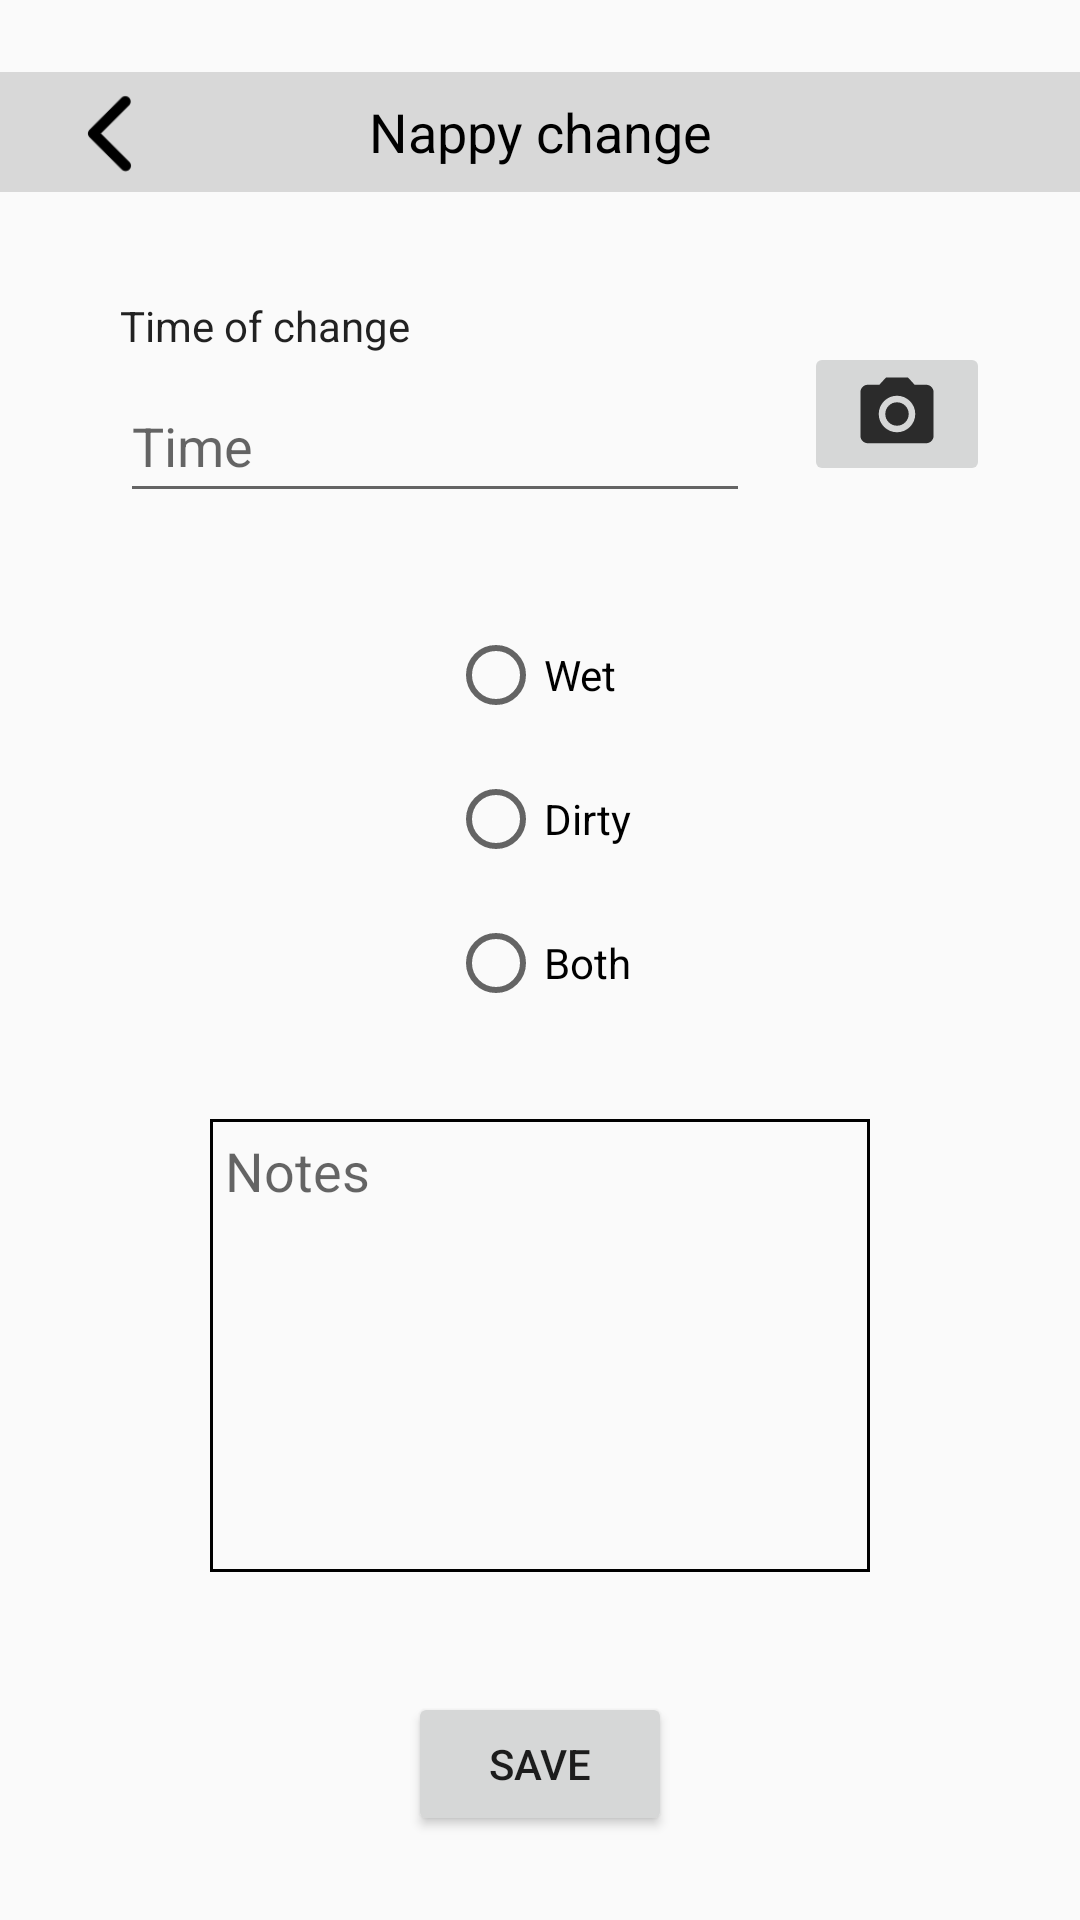

Where icons sit on this 1080x1920 app screen, as (x1=x1, y1=y1, x2=x2, y2=y2):
left: (x1=30, y1=72, x2=189, y2=192)
take photo: (x1=816, y1=360, x2=978, y2=468)
